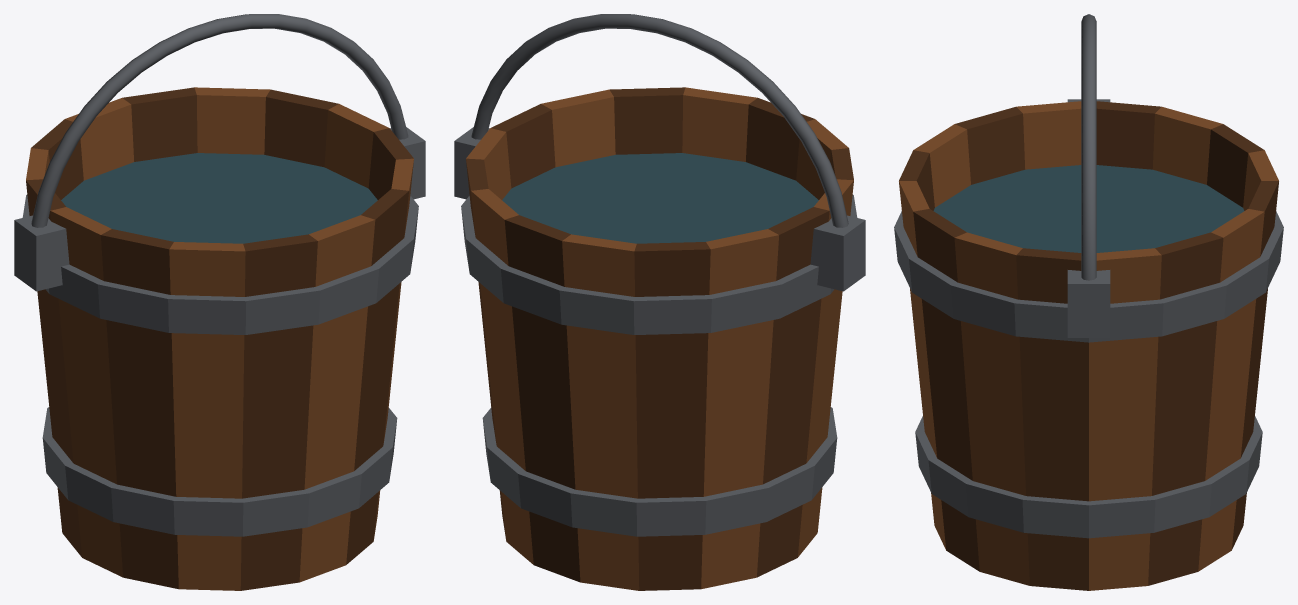
File: water-bucket_final.glb
3 renders of one model, left to right at view 1: azimuth 30°, elevation 25°; view 2: azimuth 150°, elevation 25°; view 3: azimuth 270°, elevation 25°, orthographic. The views are drawn at different scales.
Parts seen in each view (by area): view 1: SM_WaterBucket_Body, SM_WaterBucket_Water, SM_WaterBucket_Hoop_02, SM_WaterBucket_Hoop_01, SM_WaterBucket_Handle, SM_WaterBucket_Lug_02, SM_WaterBucket_Lug_01; view 2: SM_WaterBucket_Body, SM_WaterBucket_Water, SM_WaterBucket_Hoop_02, SM_WaterBucket_Hoop_01, SM_WaterBucket_Handle, SM_WaterBucket_Lug_02, SM_WaterBucket_Lug_01; view 3: SM_WaterBucket_Body, SM_WaterBucket_Water, SM_WaterBucket_Hoop_02, SM_WaterBucket_Hoop_01, SM_WaterBucket_Handle, SM_WaterBucket_Lug_01.
Boxes of the visible parts, <box> form: SM_WaterBucket_Body: <box>26,87,413,590</box>; SM_WaterBucket_Water: <box>61,153,377,243</box>; SM_WaterBucket_Hoop_02: <box>22,194,418,334</box>; SM_WaterBucket_Hoop_01: <box>42,407,397,536</box>; SM_WaterBucket_Handle: <box>31,14,408,227</box>; SM_WaterBucket_Lug_02: <box>14,215,69,291</box>; SM_WaterBucket_Lug_01: <box>390,127,425,199</box>; SM_WaterBucket_Body: <box>466,87,853,590</box>; SM_WaterBucket_Water: <box>502,153,818,243</box>; SM_WaterBucket_Hoop_02: <box>461,194,857,334</box>; SM_WaterBucket_Hoop_01: <box>482,407,837,536</box>; SM_WaterBucket_Handle: <box>471,14,848,227</box>; SM_WaterBucket_Lug_02: <box>810,215,865,291</box>; SM_WaterBucket_Lug_01: <box>454,127,489,199</box>; SM_WaterBucket_Body: <box>899,101,1278,590</box>; SM_WaterBucket_Water: <box>933,165,1244,252</box>; SM_WaterBucket_Hoop_02: <box>894,211,1283,342</box>; SM_WaterBucket_Hoop_01: <box>915,416,1262,538</box>; SM_WaterBucket_Handle: <box>1081,14,1096,280</box>; SM_WaterBucket_Lug_01: <box>1067,270,1110,337</box>.
Bounding box in the file's own units: 0.3674 × 0.4556 × 0.3279.
